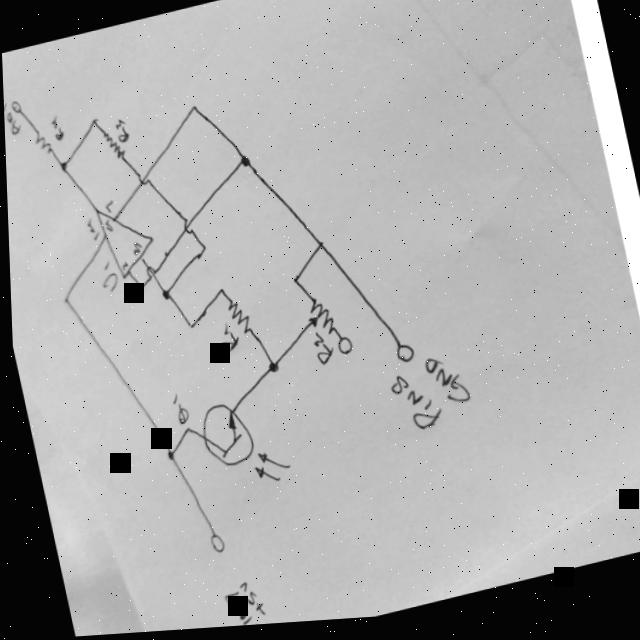crossover: (174, 215, 196, 241), (137, 263, 159, 283), (131, 171, 152, 191)
junction: (194, 242, 208, 257), (131, 280, 145, 295), (57, 293, 71, 308), (236, 156, 250, 171), (55, 159, 69, 174), (160, 450, 174, 464), (262, 363, 276, 377), (286, 276, 300, 290), (185, 103, 199, 117), (312, 241, 325, 256), (212, 286, 225, 301), (181, 320, 194, 335), (157, 289, 170, 304), (86, 114, 99, 129), (177, 423, 190, 438)
resistor: (298, 295, 338, 343), (221, 297, 254, 341), (97, 127, 125, 163), (32, 129, 55, 158)
terminal: (200, 531, 226, 557), (388, 344, 413, 370), (328, 335, 353, 361), (5, 94, 23, 115)
text: (379, 354, 472, 444), (214, 576, 268, 630), (303, 331, 332, 372), (209, 324, 236, 358), (93, 259, 117, 295), (164, 391, 186, 427), (3, 100, 20, 137), (46, 112, 66, 141), (82, 215, 100, 245), (111, 117, 128, 145), (126, 241, 143, 258), (100, 198, 114, 214), (100, 218, 111, 234), (116, 260, 128, 272)
transistor: (189, 391, 289, 501)
